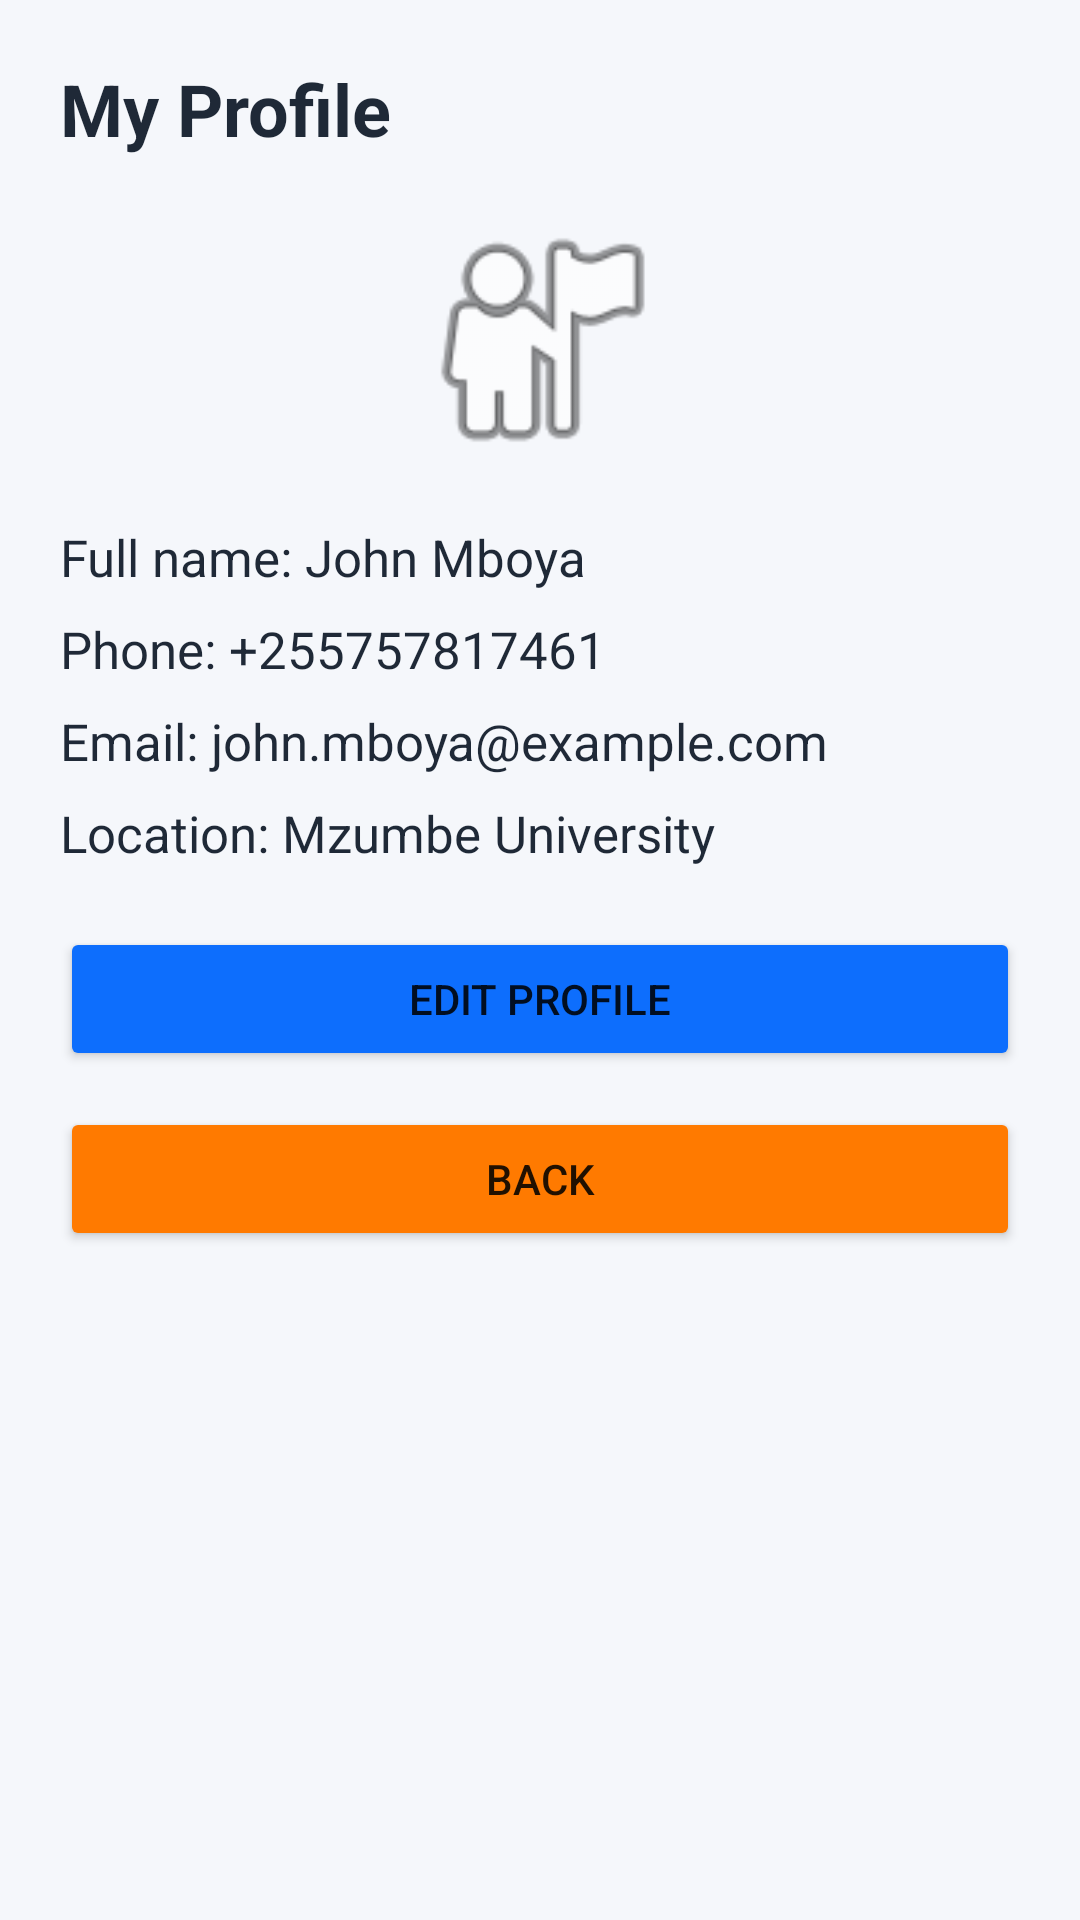

Point at icon controls on the screen. Image size 1080 × 1920, points as (x,y).
myplaces: (543,340)
